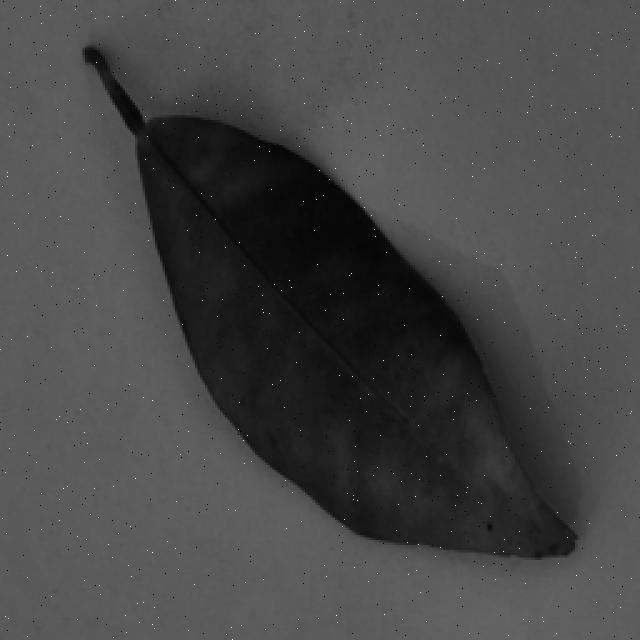greening: (73, 40, 582, 577)
